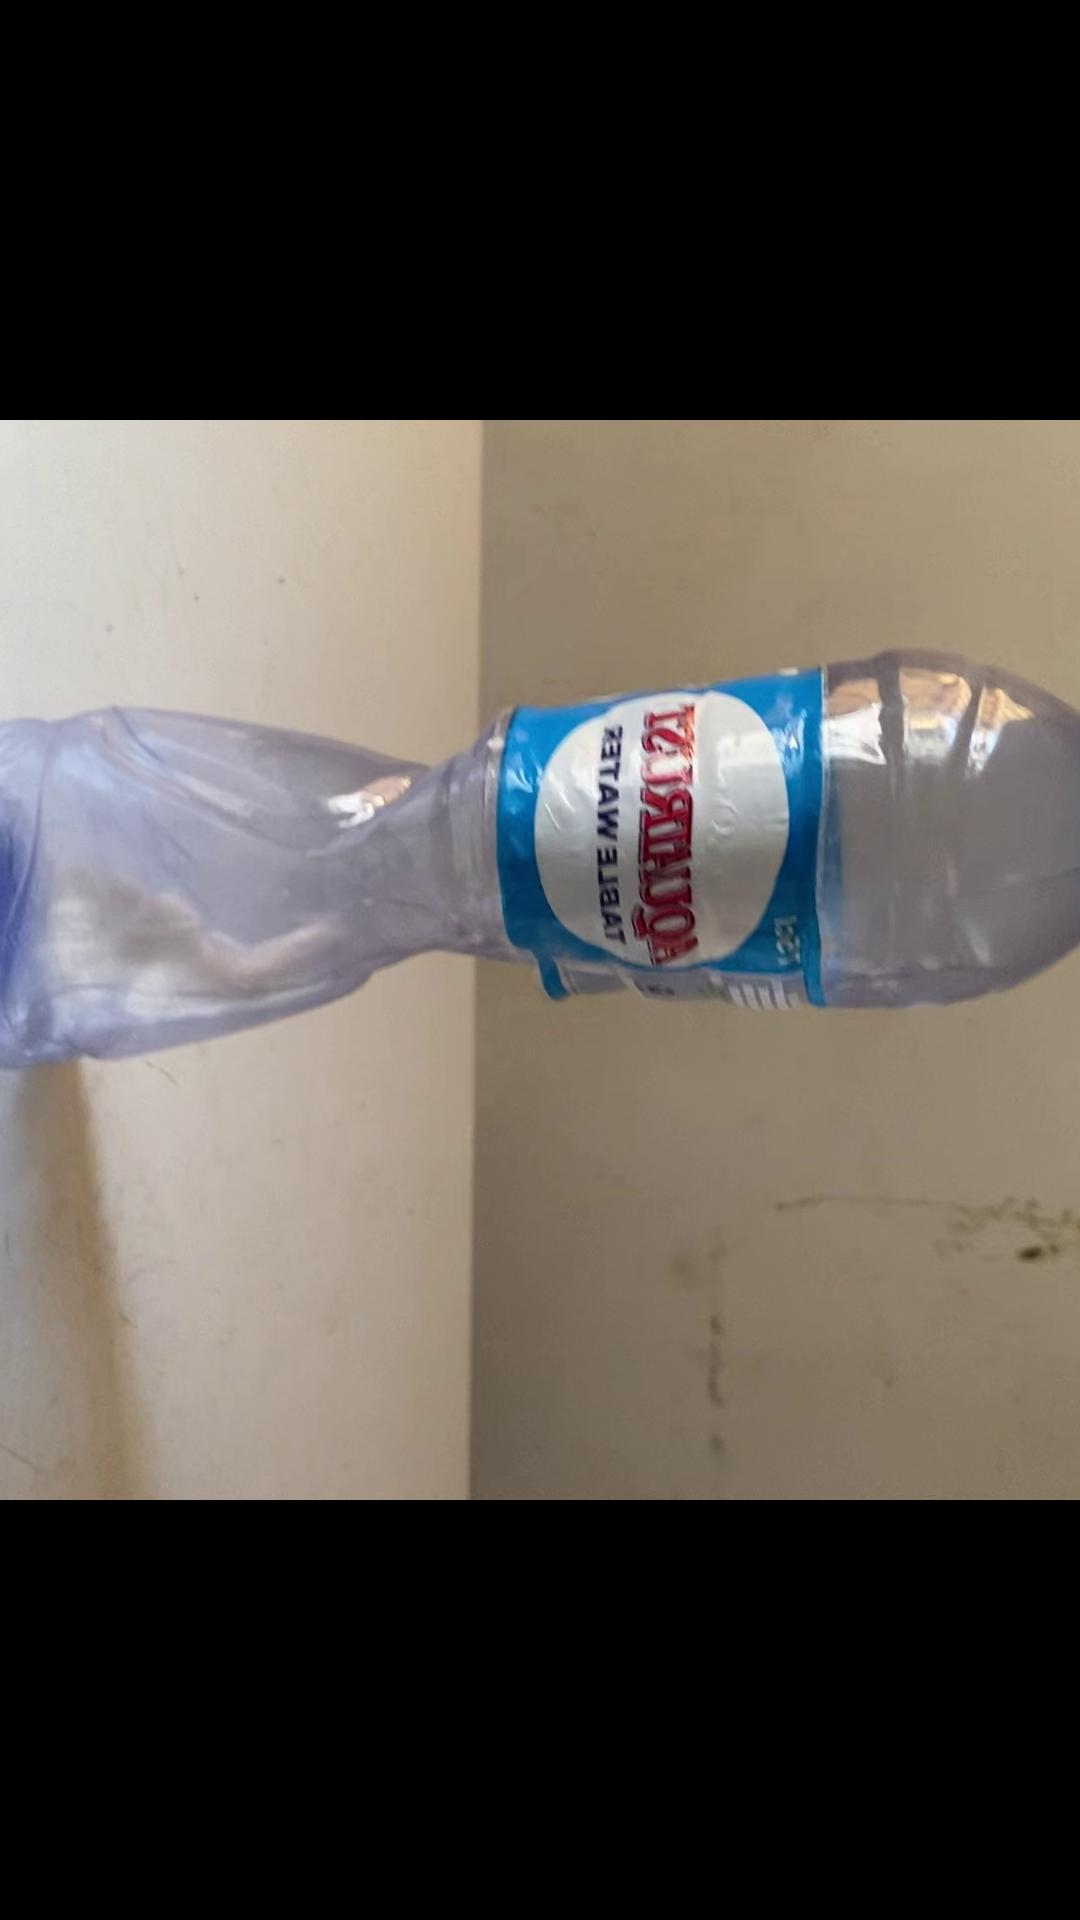crumbled: (0, 638, 1080, 1072)
label: (492, 691, 823, 1010)
